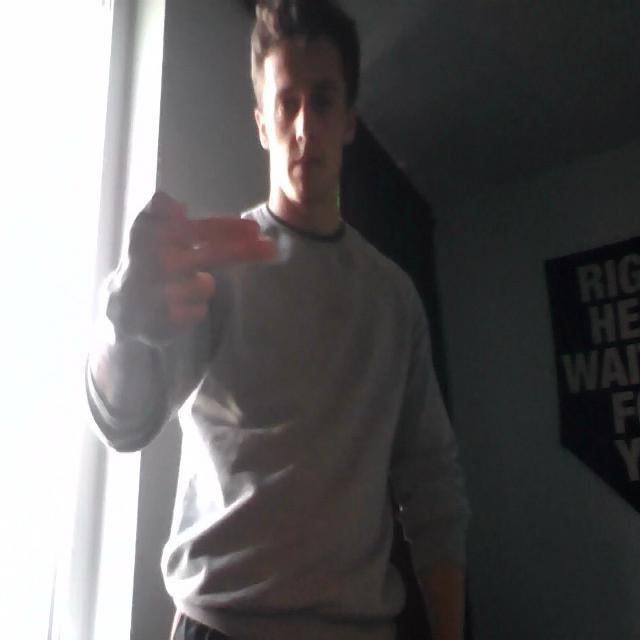right: (113, 183, 280, 350)
